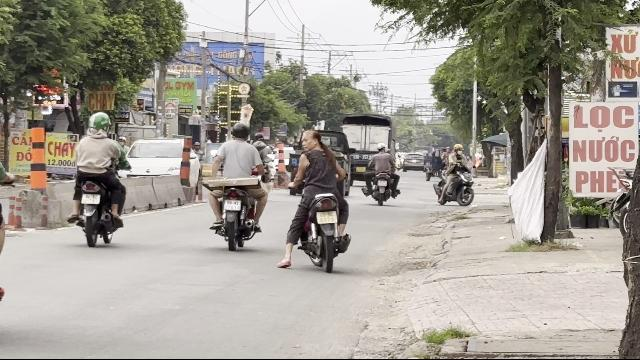helmet: (86, 110, 112, 136), (230, 121, 250, 143)
licenseplate: (316, 211, 338, 224), (81, 193, 99, 203), (223, 200, 240, 210)
motorcyclist: (283, 123, 353, 272), (202, 120, 268, 250), (67, 110, 127, 246)
nohelmet: (300, 130, 324, 154)
